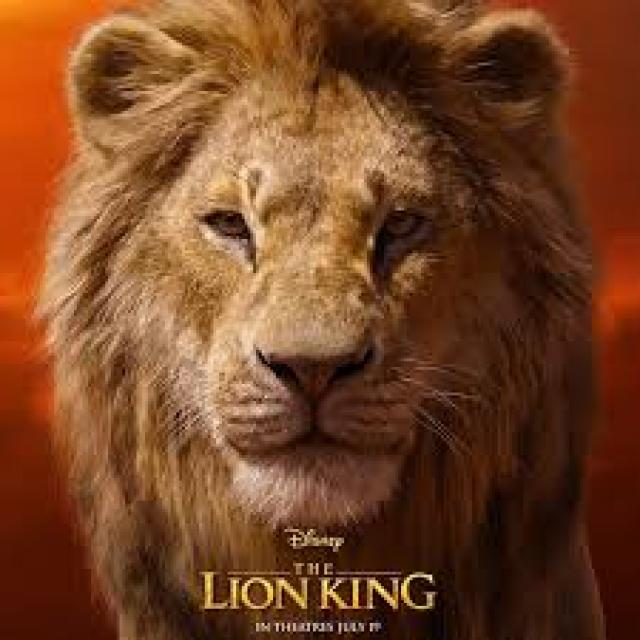Lion: (45, 8, 588, 547)
